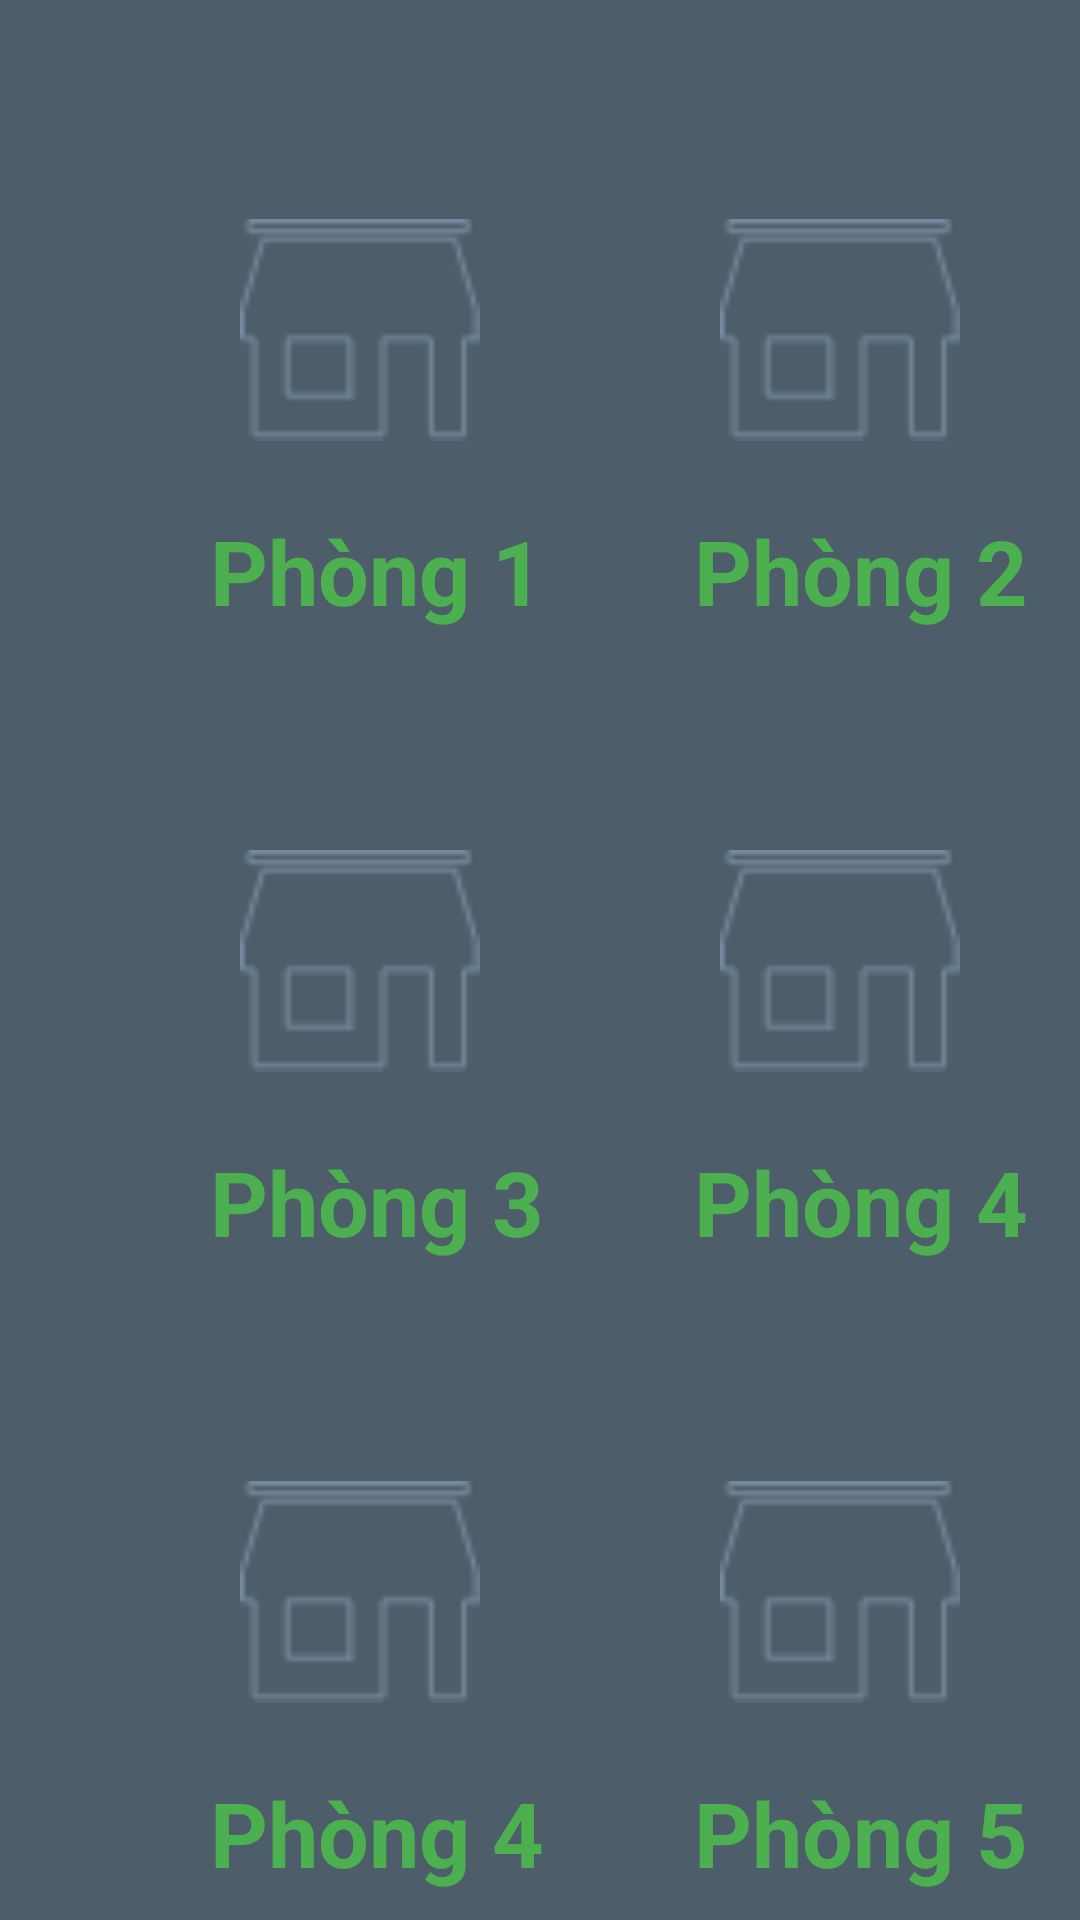

Icon click points for this 1080w x 1920h phone screenshot, format (x=x, y=y):
store: (x=360, y=328), (x=840, y=328), (x=360, y=959), (x=840, y=959), (x=360, y=1590), (x=840, y=1590)
